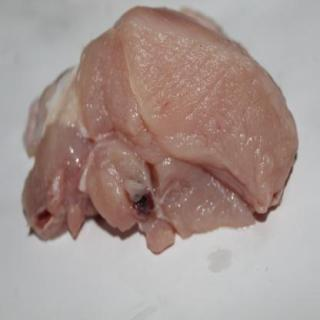Ayam: (26, 9, 298, 237)
